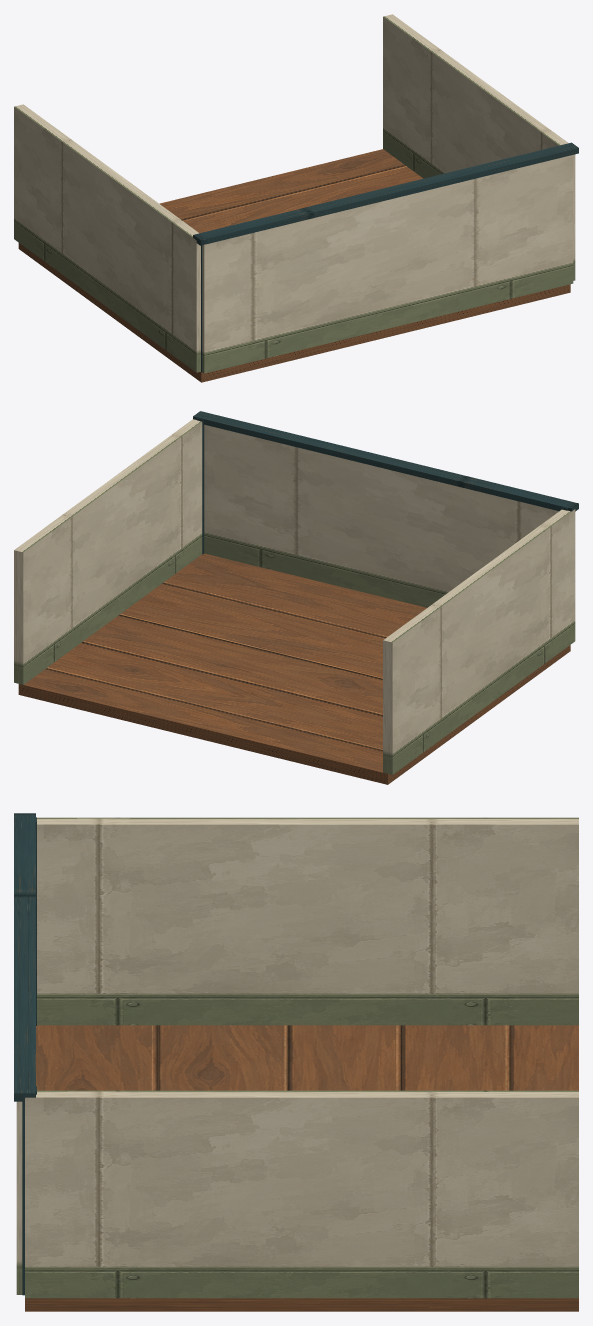
Rendered from SM_BunkerControl_RoomShell.fbx.
3 renders of one model, top to bottom at view 1: azimuth 30°, elevation 25°; view 2: azimuth 150°, elevation 25°; view 3: azimuth 270°, elevation 25°, orthographic. The views are drawn at different scales.
Parts seen in each view (by area): view 1: SM_BunkerControl_RoomShell; view 2: SM_BunkerControl_RoomShell; view 3: SM_BunkerControl_RoomShell.
Part boxes in pixels (x1,y1,x2,y2): SM_BunkerControl_RoomShell: (14, 14, 578, 382); SM_BunkerControl_RoomShell: (14, 411, 578, 784); SM_BunkerControl_RoomShell: (14, 813, 578, 1311).
Size of what is drawn, in the model's own units: 718 by 612 by 265.
